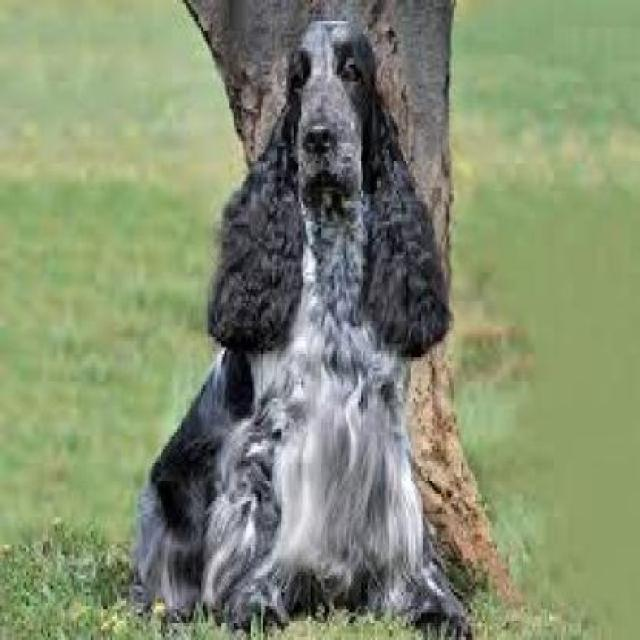animals: (135, 16, 480, 630)
